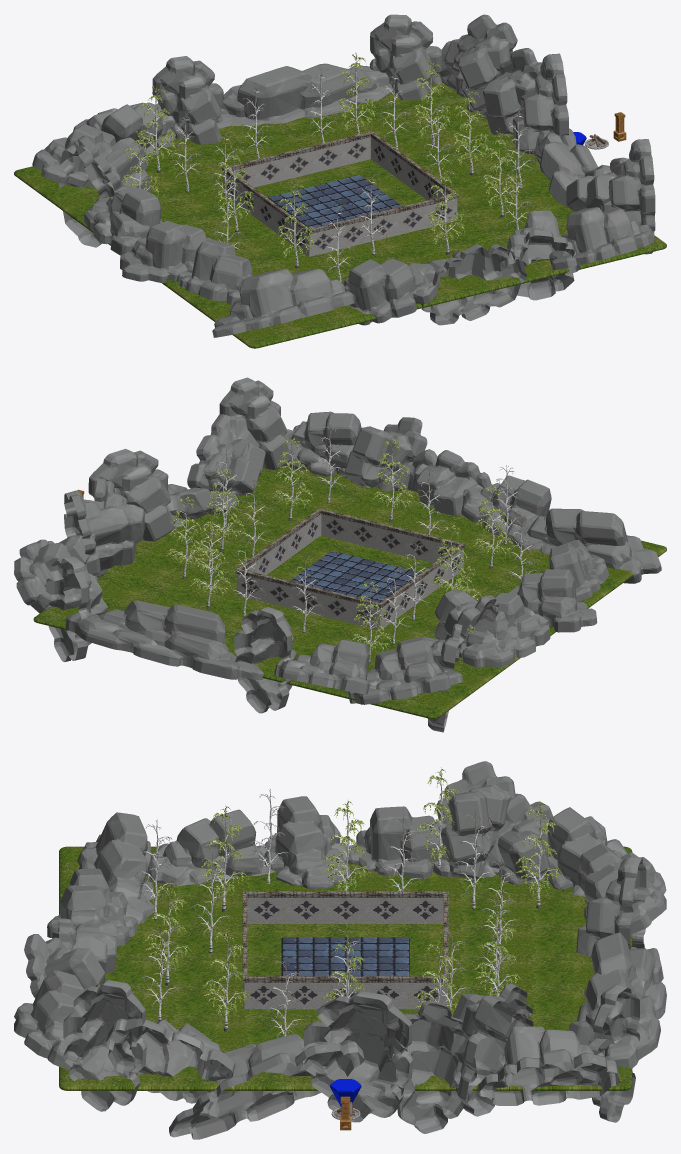
The picture shows the model from 3 angles, top to bottom: view 1: azimuth 30°, elevation 25°; view 2: azimuth 150°, elevation 25°; view 3: azimuth 270°, elevation 25°; orthographic projection. The views are drawn at different scales.
Visible parts, largest first — view 1: Plane, Cube, Rock_1__Rock_1__0_20, Rock_1__Rock_1__0_14, Rock_1__Rock_1__0_19, Rock_1__Rock_1__0_9, Rock_1__Rock_1__0_15, Rock_1__Rock_1__0_2, Rock_1__Rock_1__0_4, Plane001, Rock_1__Rock_1__0_6, Rock_1__Rock_1__0_10 (+21 smaller); view 2: Plane, Cube, Rock_1__Rock_1__0_20, Rock_1__Rock_1__0_14, Rock_1__Rock_1__0_1, Rock_1__Rock_1__0_7, Rock_1__Rock_1__0_18, Rock_1__Rock_1__0_17, Rock_1__Rock_1__0_12, Rock_1__Rock_1__0_19, Rock_1__Rock_1__0_4, Plane001 (+17 smaller); view 3: Plane, Cube, Rock_1__Rock_1__0_7, Rock_1__Rock_1__0, Rock_1__Rock_1__0_5, Rock_1__Rock_1__0_3, Rock_1__Rock_1__0_8, Rock_1__Rock_1__0_13, Rock_1__Rock_1__0_20, Rock_1__Rock_1__0_11, Rock_1__Rock_1__0_1, Rock_1__Rock_1__0_6 (+27 smaller).
Boxes of the visible parts, left/top/right/bottom form: Plane: left=14, top=82, right=666, bottom=348; Cube: left=223, top=137, right=457, bottom=256; Rock_1__Rock_1__0_20: left=216, top=63, right=393, bottom=128; Rock_1__Rock_1__0_14: left=212, top=268, right=354, bottom=337; Rock_1__Rock_1__0_19: left=152, top=56, right=223, bottom=144; Rock_1__Rock_1__0_9: left=369, top=14, right=442, bottom=100; Rock_1__Rock_1__0_15: left=343, top=258, right=440, bottom=325; Rock_1__Rock_1__0_2: left=421, top=244, right=526, bottom=325; Rock_1__Rock_1__0_4: left=549, top=207, right=654, bottom=270; Plane001: left=268, top=175, right=402, bottom=228; Rock_1__Rock_1__0_6: left=454, top=14, right=517, bottom=116; Rock_1__Rock_1__0_10: left=120, top=220, right=212, bottom=282; Plane: left=33, top=466, right=666, bottom=719; Cube: left=237, top=514, right=463, bottom=630; Rock_1__Rock_1__0_20: left=65, top=600, right=263, bottom=680; Rock_1__Rock_1__0_14: left=504, top=508, right=661, bottom=583; Rock_1__Rock_1__0_1: left=187, top=414, right=265, bottom=495; Rock_1__Rock_1__0_7: left=88, top=448, right=174, bottom=541; Rock_1__Rock_1__0_18: left=348, top=637, right=463, bottom=704; Rock_1__Rock_1__0_17: left=344, top=417, right=427, bottom=490; Rock_1__Rock_1__0_12: left=459, top=592, right=550, bottom=667; Rock_1__Rock_1__0_19: left=234, top=607, right=296, bottom=713; Rock_1__Rock_1__0_4: left=283, top=411, right=361, bottom=478; Plane001: left=290, top=551, right=420, bottom=602; Plane: left=59, top=846, right=632, bottom=1090; Cube: left=243, top=897, right=447, bottom=1009; Rock_1__Rock_1__0_7: left=304, top=991, right=413, bottom=1122; Rock_1__Rock_1__0: left=169, top=1034, right=364, bottom=1139; Rock_1__Rock_1__0_5: left=478, top=1026, right=619, bottom=1105; Rock_1__Rock_1__0_3: left=63, top=980, right=146, bottom=1111; Rock_1__Rock_1__0_8: left=391, top=1000, right=476, bottom=1133; Rock_1__Rock_1__0_13: left=436, top=761, right=515, bottom=878; Rock_1__Rock_1__0_20: left=577, top=932, right=666, bottom=1067; Rock_1__Rock_1__0_11: left=147, top=809, right=274, bottom=886; Rock_1__Rock_1__0_1: left=106, top=1018, right=235, bottom=1103; Rock_1__Rock_1__0_6: left=452, top=983, right=533, bottom=1116.
Size of the model in its own units: 44.55 by 11.62 by 40.87.
14 materials, 7 textured.
